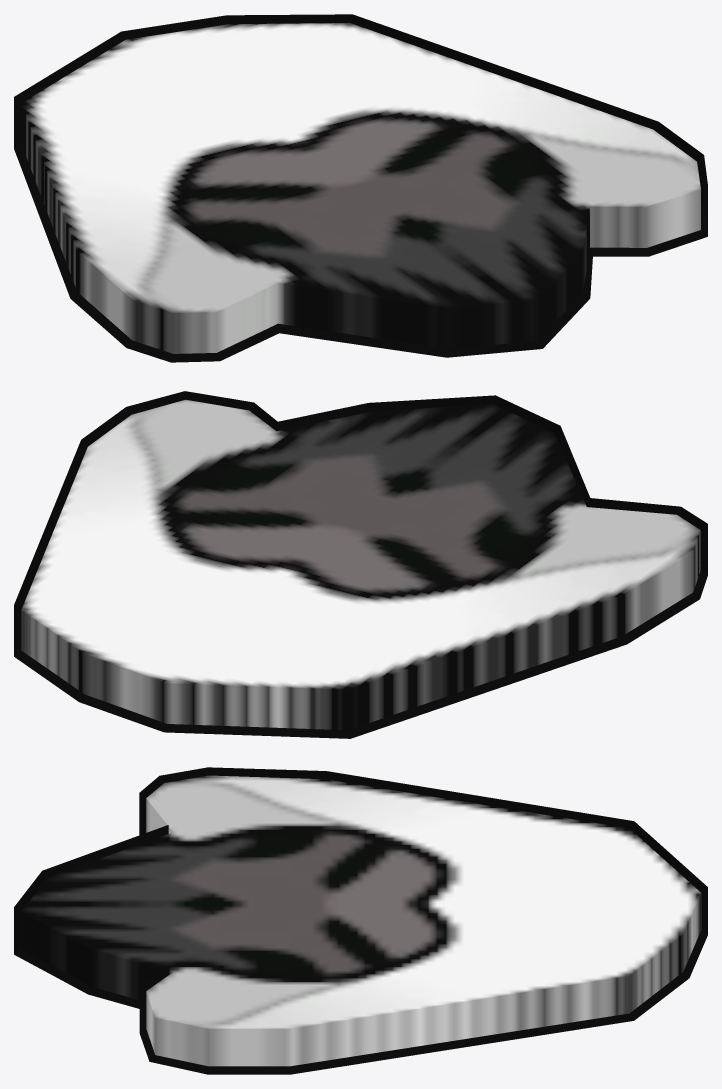
The model's file is Item_Apparel_CeremonialCultistMask_Things_Pawn_Humanlike_Apparel_WhispererMask_WhispererMask.glb.
3 renders of one model, top to bottom at view 1: azimuth 30°, elevation 25°; view 2: azimuth 150°, elevation 25°; view 3: azimuth 270°, elevation 25°, orthographic. The views are drawn at different scales.
Parts seen in each view (by area): view 1: Body, Outline; view 2: Body, Outline; view 3: Body, Outline.
Boxes of the visible parts, box(x1,y1,x2,y2) form: Body: box(21, 23, 700, 353); Outline: box(14, 14, 707, 362); Body: box(21, 399, 700, 730); Outline: box(14, 391, 707, 738); Body: box(21, 775, 701, 1066); Outline: box(14, 767, 707, 1074).
Size of the model in its own units: 0.535 by 0.0501 by 0.6057.
2 materials, 1 textured.
